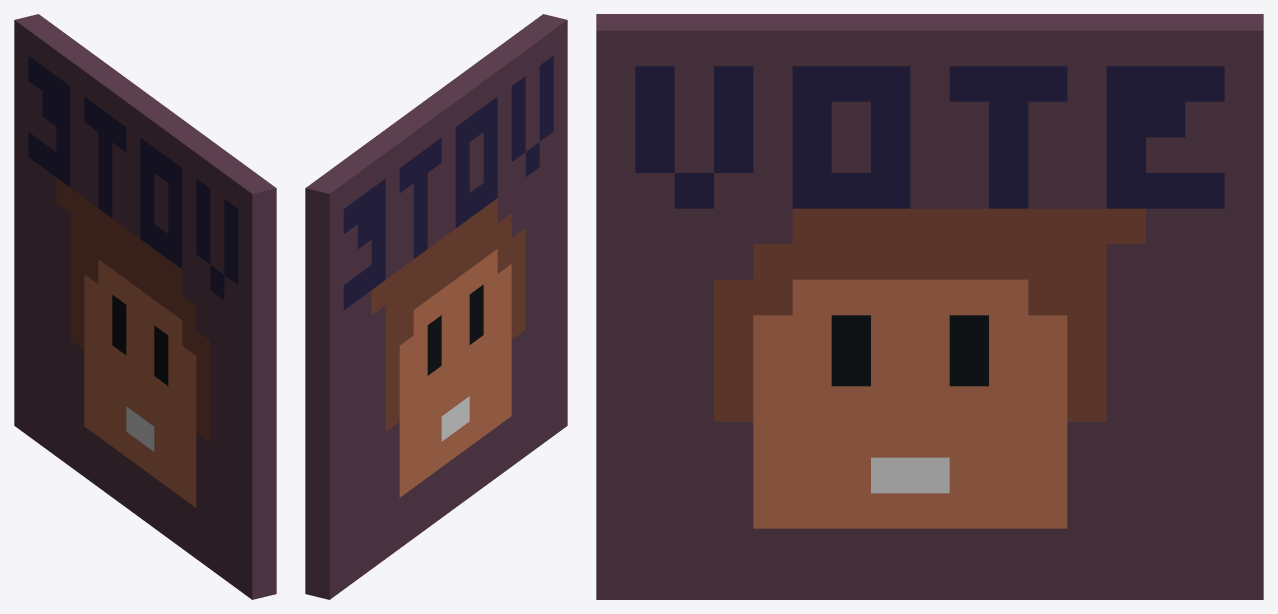
The model's file is b4Signal.obj.
The picture shows the model from 3 angles, left to right: view 1: azimuth 30°, elevation 25°; view 2: azimuth 150°, elevation 25°; view 3: azimuth 270°, elevation 25°; orthographic projection. The views are drawn at different scales.
Bounding box in the file's own units: 0.1 × 1.6 × 1.7.
Materials: 1 (1 with a texture image).
